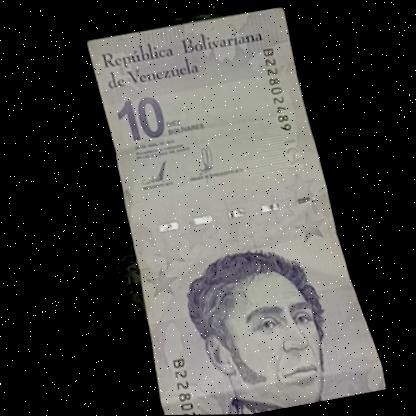ten-front-vef: (77, 4, 379, 416)
